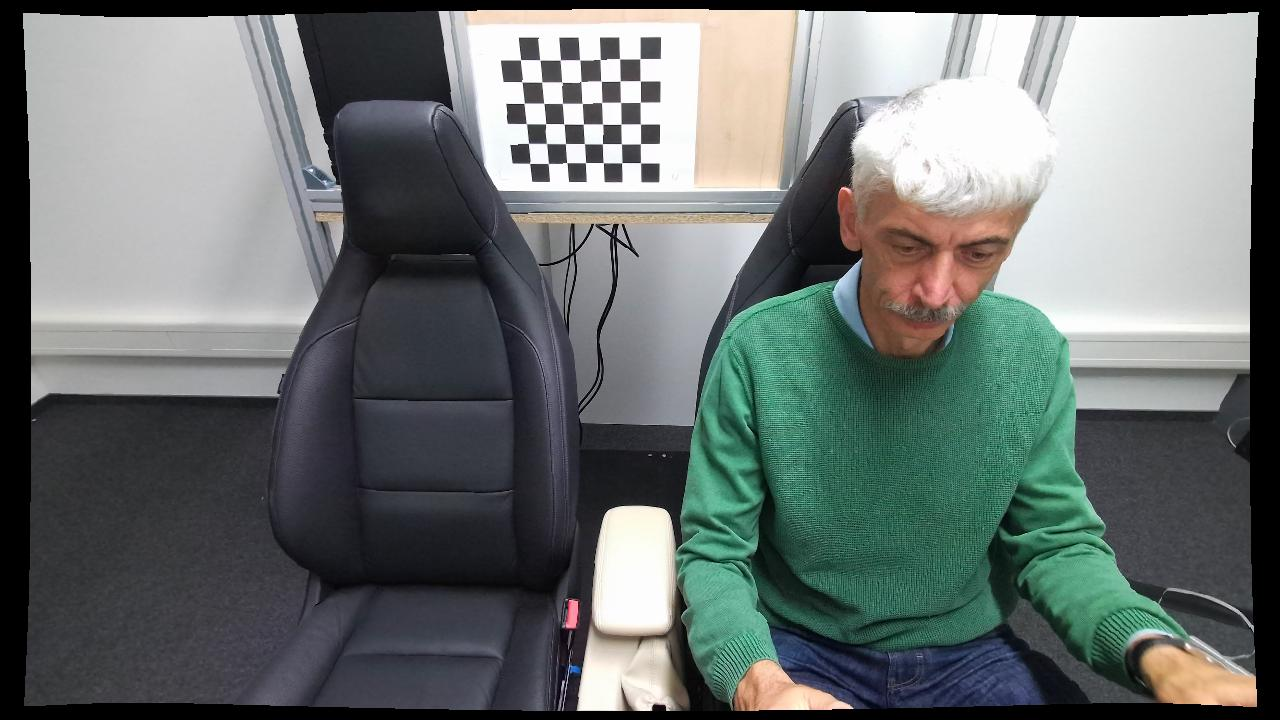SafeDriving: (675, 76, 1135, 711)
